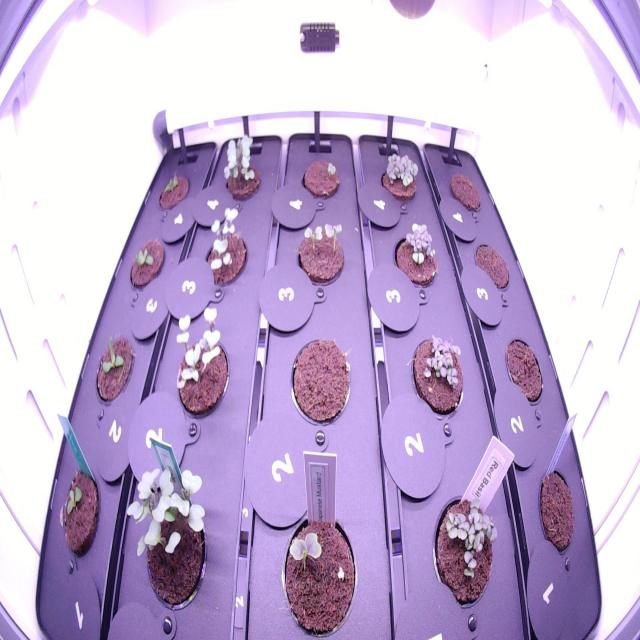germination: (275, 491, 361, 639), (424, 482, 501, 624), (408, 326, 476, 436), (48, 455, 108, 572), (387, 217, 448, 307), (289, 213, 350, 295), (92, 316, 138, 416), (124, 231, 170, 296), (374, 148, 423, 207), (296, 154, 344, 206), (152, 162, 195, 220)
pod: (284, 330, 358, 434), (532, 462, 582, 566), (501, 327, 548, 418), (469, 236, 515, 297), (444, 163, 487, 221)
